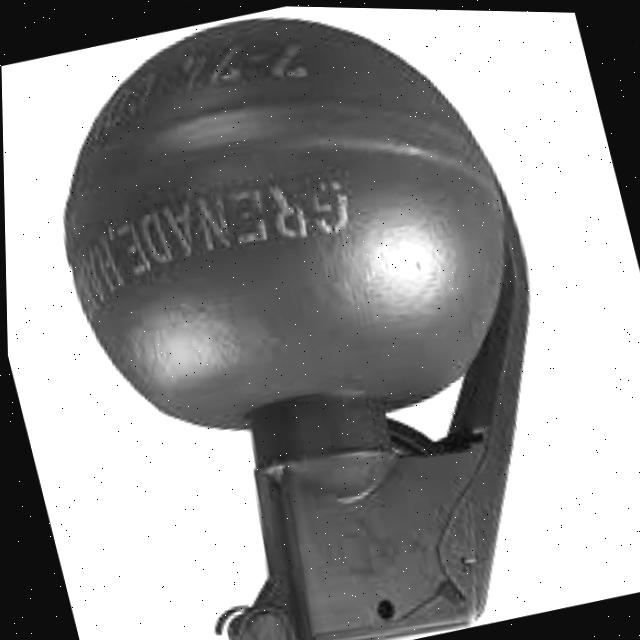grenade: (0, 0, 629, 640)
